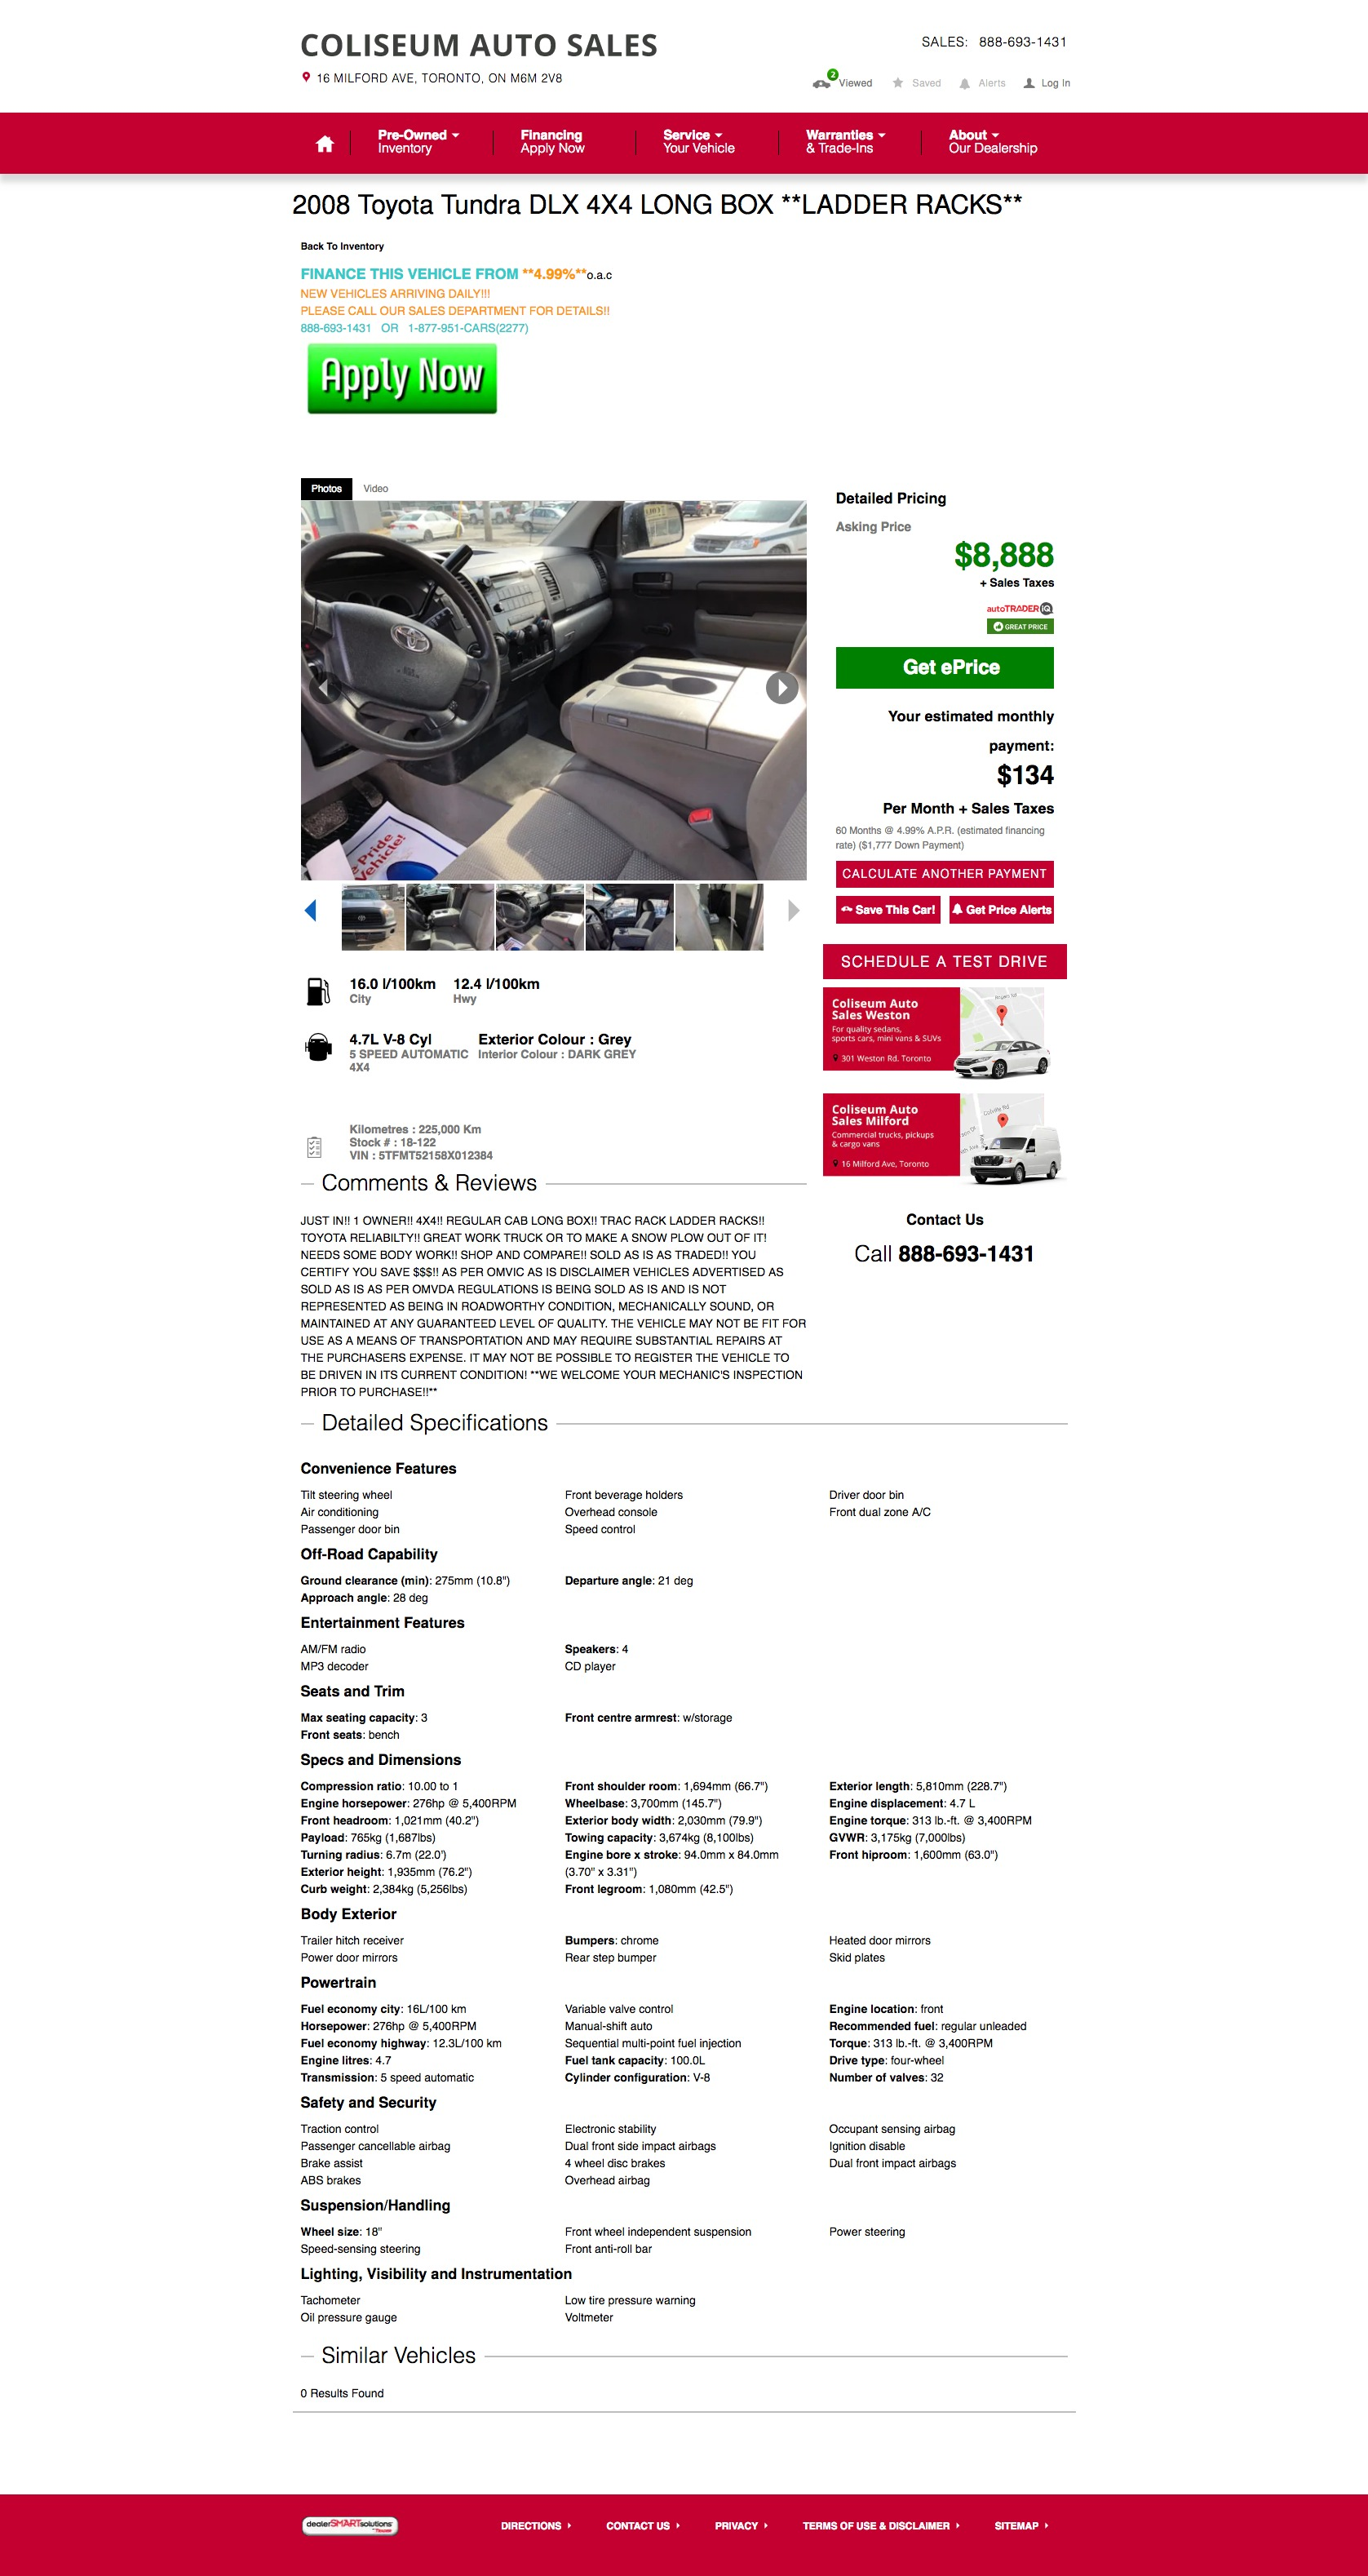car: (789, 900, 801, 925)
